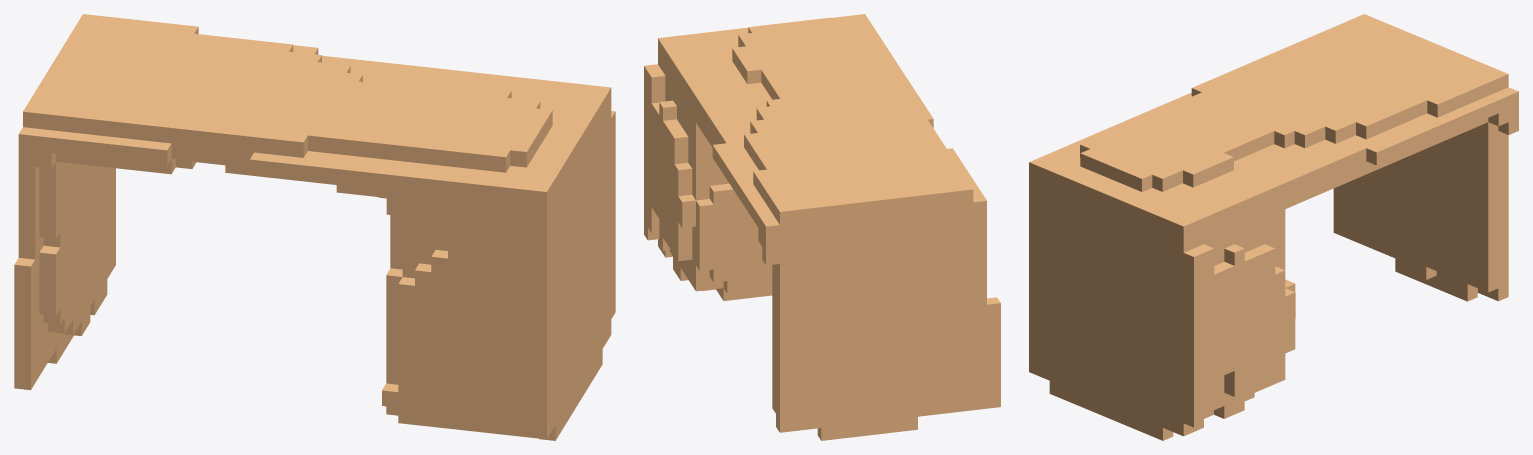
Rendered from Office_Desk.glb.
3 renders of one model, left to right at view 1: azimuth 30°, elevation 25°; view 2: azimuth 150°, elevation 25°; view 3: azimuth 270°, elevation 25°, orthographic. The views are drawn at different scales.
Visible parts, largest first — view 1: prediction; view 2: prediction; view 3: prediction.
Part boxes in pixels (left/top/right/bottom): prediction: left=14, top=14, right=615, bottom=440; prediction: left=644, top=14, right=1000, bottom=440; prediction: left=1029, top=14, right=1518, bottom=440.
Bounding box in the file's own units: 13.89 × 7.2 × 13.54.
